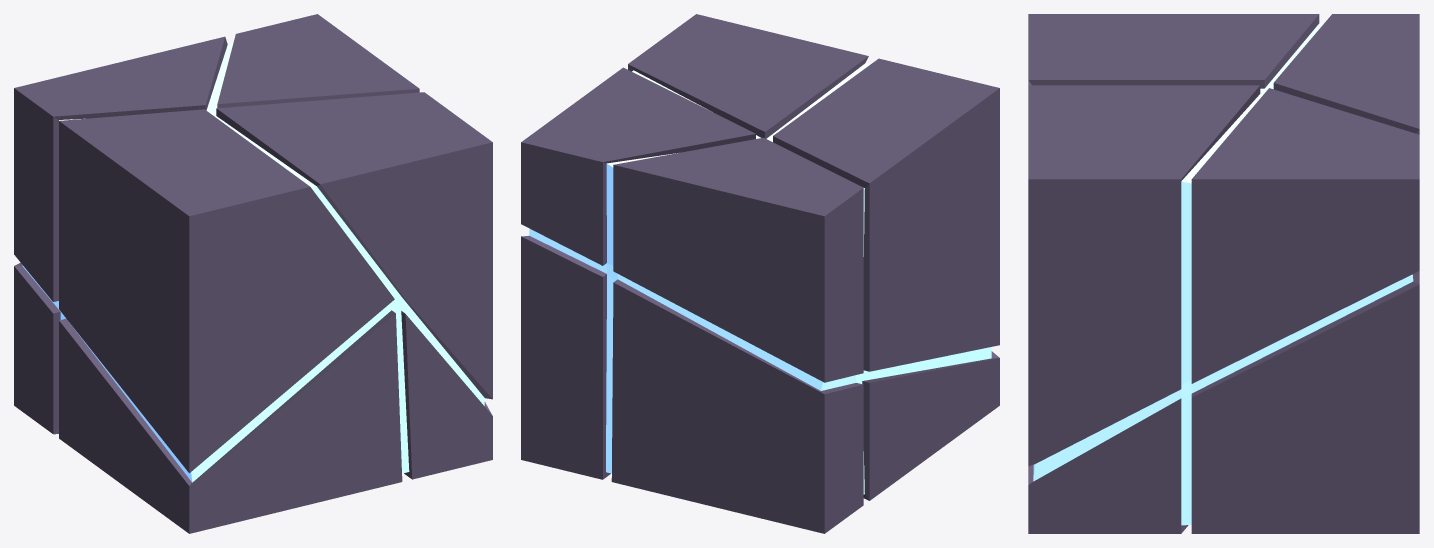
Rendered from cubeee2.glb.
3 renders of one model, left to right at view 1: azimuth 30°, elevation 25°; view 2: azimuth 150°, elevation 25°; view 3: azimuth 270°, elevation 25°, orthographic. The views are drawn at different scales.
Visible parts, largest first — view 1: Cube; view 2: Cube; view 3: Cube.
Boxes of the visible parts, left/top/right/bottom form: Cube: left=14, top=14, right=492, bottom=533; Cube: left=521, top=14, right=999, bottom=533; Cube: left=1028, top=14, right=1419, bottom=533.
Size of the model in its own units: 2 by 2 by 2.
